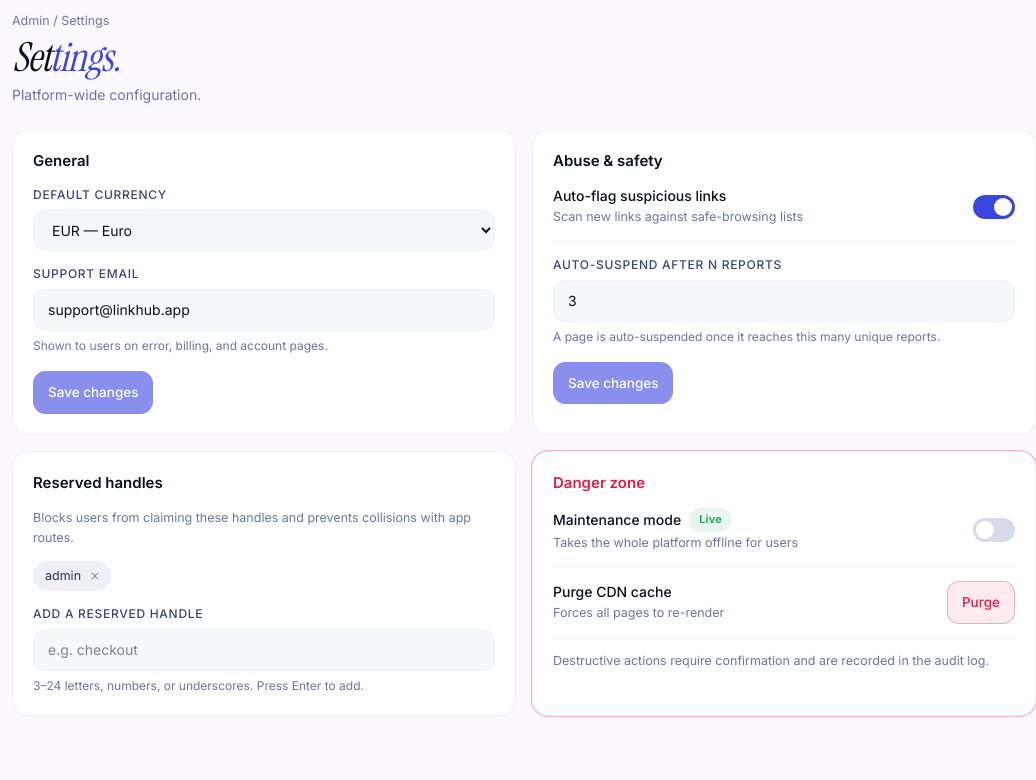
Test: SettingsClient › adds a reserved handle on Enter
Type "checkout" into the field labelled "Add a reserved handle" at point(264, 650), box [33,629,495,671]
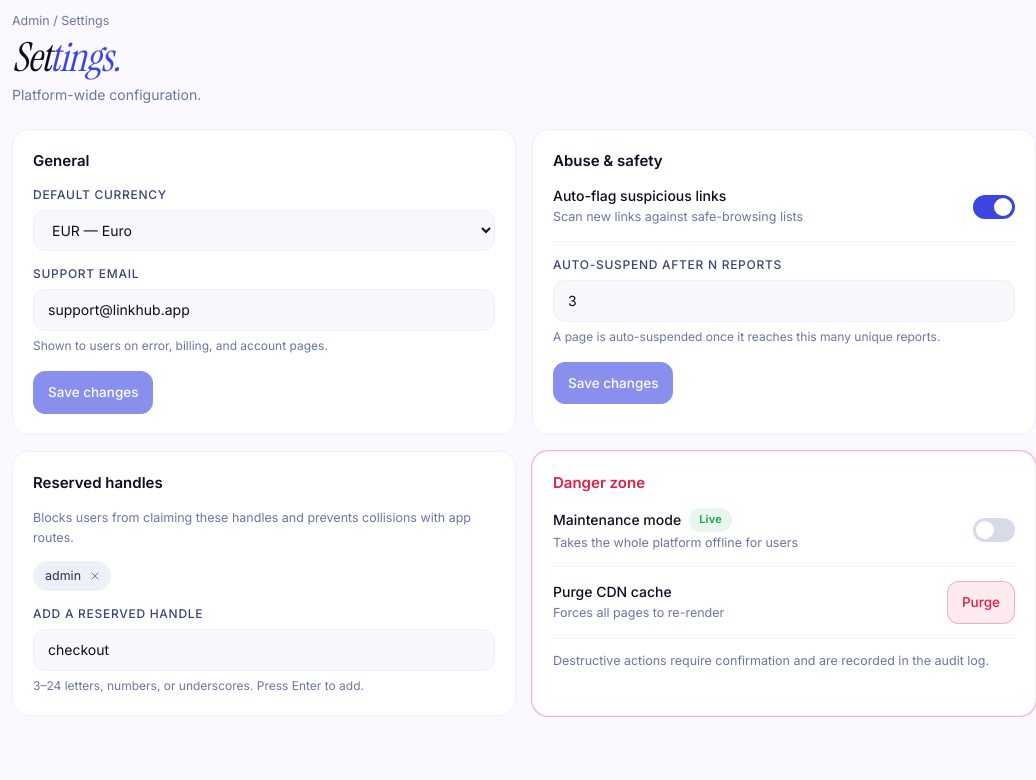
Press Enter in the field labelled "Add a reserved handle", box [33,629,495,671]
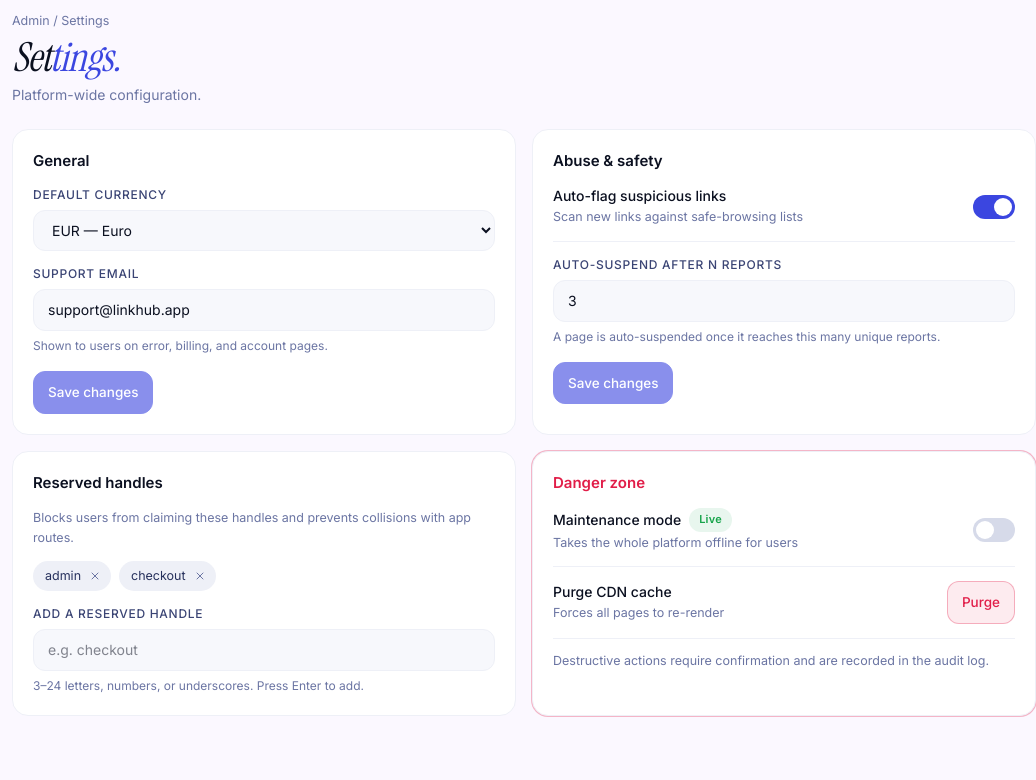
expect the text "checkout" is shown: met, box [119,561,216,591]
